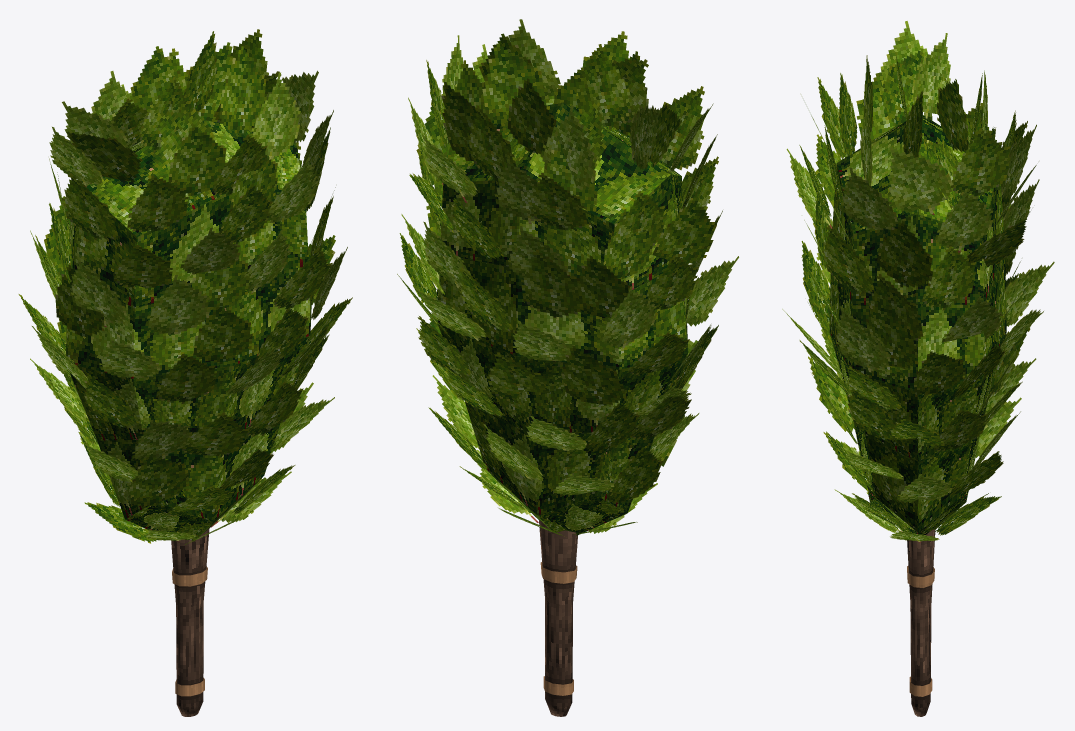
Rendered from saunavihta.fbx.
3 renders of one model, left to right at view 1: azimuth 30°, elevation 25°; view 2: azimuth 150°, elevation 25°; view 3: azimuth 270°, elevation 25°, orthographic. The views are drawn at different scales.
Parts seen in each view (by area): view 1: saunavihta; view 2: saunavihta; view 3: saunavihta.
Part boxes in pixels (left/top/right/bottom): saunavihta: left=18, top=29, right=352, bottom=716; saunavihta: left=397, top=19, right=738, bottom=716; saunavihta: left=782, top=21, right=1054, bottom=716.
Size of the model in its own units: 12.23 by 24.72 by 9.58.
